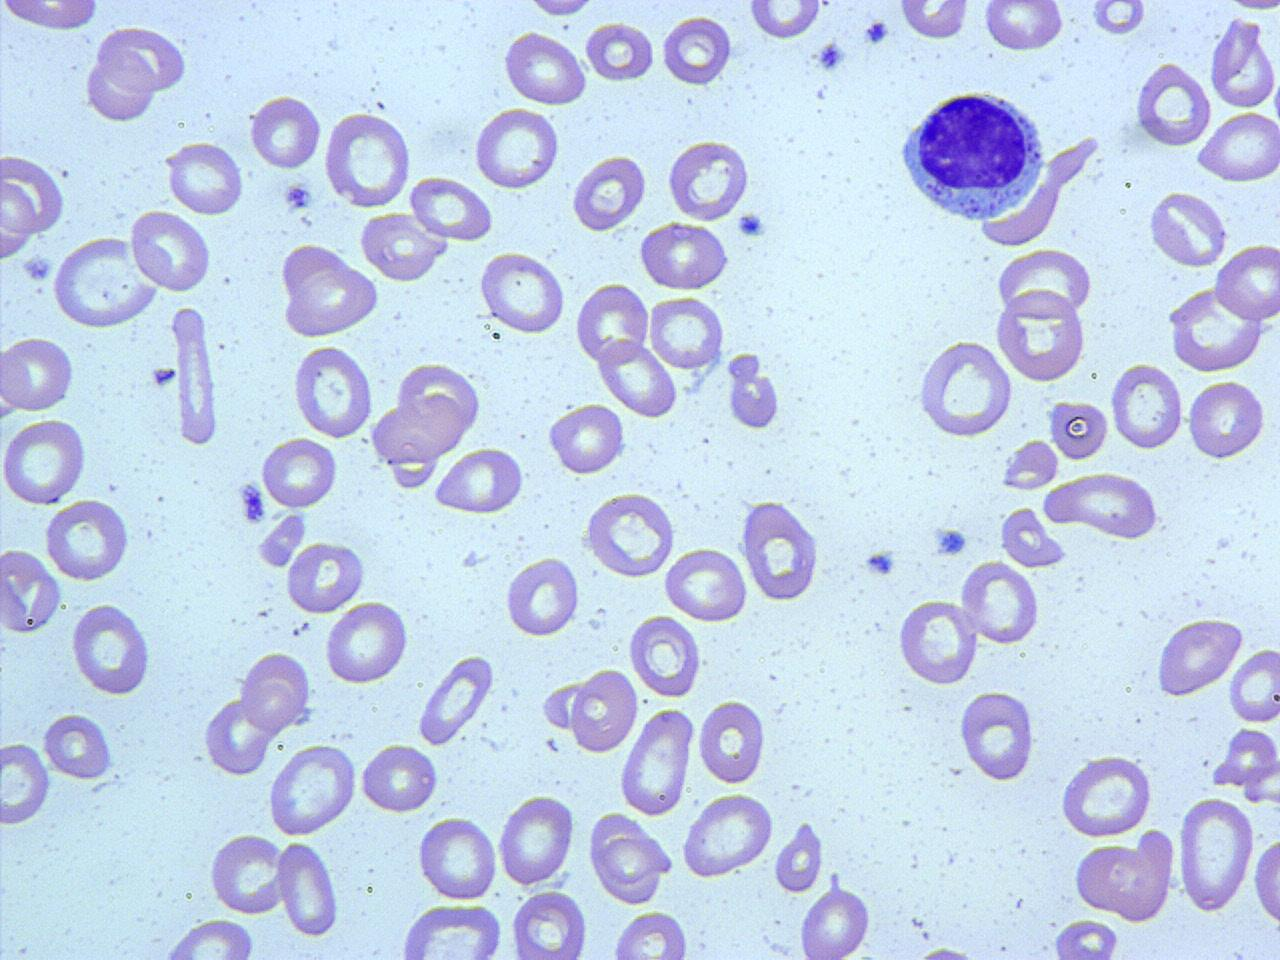Platelets: (238, 480, 266, 527), (282, 179, 314, 212), (933, 526, 968, 557), (734, 209, 766, 240), (864, 550, 898, 578), (21, 254, 54, 282), (818, 39, 846, 71), (150, 362, 179, 387), (864, 19, 890, 45)
RBC: (48, 234, 163, 330), (914, 338, 1015, 439), (1175, 794, 1257, 914), (321, 108, 412, 211), (1168, 280, 1268, 374), (994, 287, 1089, 383), (738, 497, 820, 604), (266, 741, 358, 837), (582, 489, 678, 580), (680, 790, 774, 881), (1057, 752, 1153, 839), (618, 706, 692, 816), (1045, 470, 1161, 541), (290, 340, 372, 440), (0, 415, 88, 507), (71, 600, 151, 698), (478, 248, 567, 336), (472, 104, 560, 192), (322, 598, 409, 687), (896, 595, 980, 688), (958, 688, 1038, 785), (664, 136, 753, 223), (171, 304, 224, 450), (43, 497, 130, 584), (1154, 616, 1244, 700), (281, 262, 380, 338), (994, 248, 1097, 321), (497, 792, 575, 886), (416, 652, 494, 748), (396, 358, 485, 442), (1133, 58, 1213, 150), (417, 812, 498, 902), (1109, 358, 1185, 452), (129, 206, 211, 293), (431, 445, 526, 518), (596, 337, 679, 419), (662, 546, 749, 625), (1187, 375, 1267, 462), (574, 278, 651, 368), (1147, 187, 1229, 270), (962, 560, 1040, 646), (501, 28, 588, 107), (638, 220, 732, 292), (1195, 107, 1279, 187), (207, 830, 284, 916), (504, 553, 580, 640), (96, 24, 189, 95), (628, 611, 702, 699), (276, 838, 342, 938), (396, 899, 506, 959), (1111, 826, 1177, 924), (283, 537, 366, 616), (1210, 17, 1278, 112), (164, 138, 245, 217), (1072, 840, 1156, 916), (239, 649, 312, 735), (358, 211, 444, 283), (571, 152, 648, 234), (570, 665, 638, 756), (698, 695, 766, 787), (0, 332, 75, 414), (202, 693, 272, 779), (648, 293, 725, 372), (798, 881, 874, 960), (408, 174, 495, 243), (249, 91, 322, 172), (548, 401, 626, 477), (360, 742, 439, 816), (1, 544, 63, 636), (260, 435, 337, 510), (508, 888, 588, 960), (660, 11, 733, 88), (2, 150, 66, 237), (1212, 240, 1278, 324), (42, 709, 115, 782), (82, 52, 155, 123), (592, 834, 666, 904), (724, 350, 782, 434), (584, 18, 656, 85), (999, 502, 1069, 570), (982, 0, 1066, 54), (1215, 724, 1278, 796), (0, 739, 50, 827), (610, 908, 690, 960), (157, 916, 257, 958), (1228, 644, 1280, 724), (1048, 395, 1110, 462), (774, 818, 825, 894), (0, 0, 103, 35), (1000, 437, 1062, 492), (896, 0, 972, 43), (0, 174, 38, 256), (746, 1, 822, 41), (1052, 918, 1122, 960), (1251, 830, 1279, 932), (518, 0, 604, 20)
WBC: (896, 86, 1049, 226), (915, 335, 1019, 441), (53, 233, 166, 330), (1169, 280, 1275, 374), (396, 901, 507, 959), (1, 1, 100, 39)
